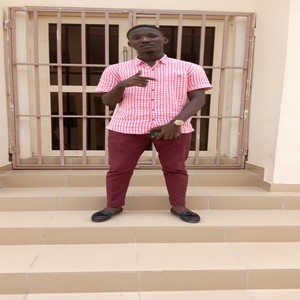Fulokoja_male_student: (104, 26, 200, 227)
